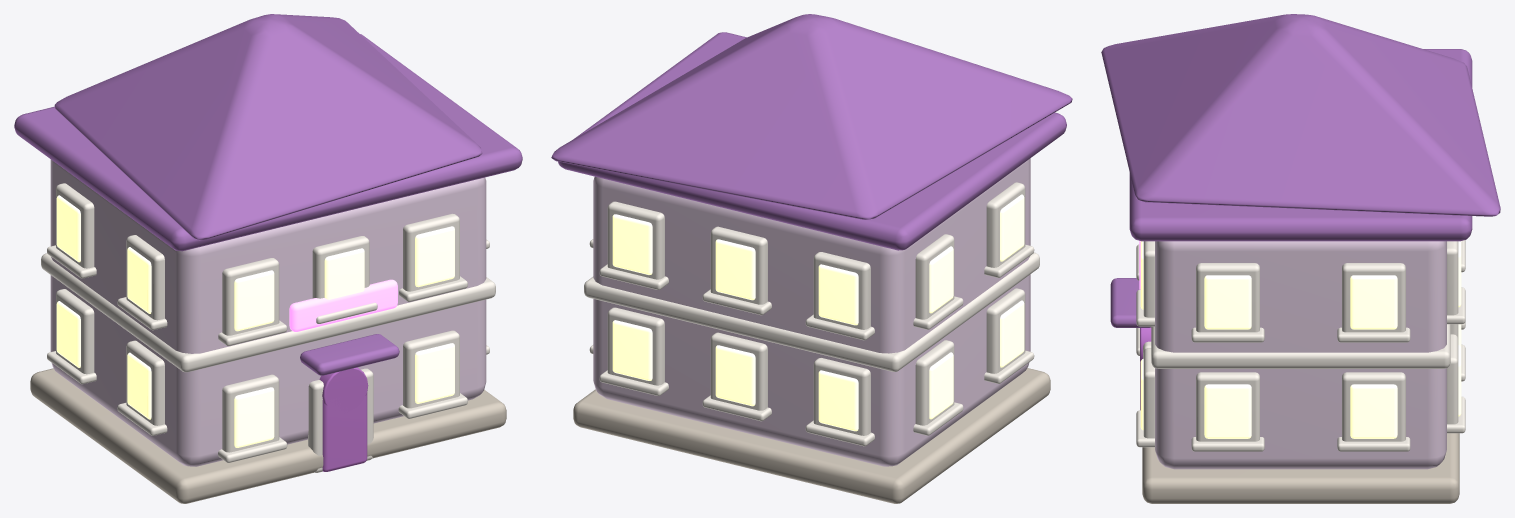
3 views of the same model, side by side, from view 1: azimuth 30°, elevation 25°; view 2: azimuth 150°, elevation 25°; view 3: azimuth 270°, elevation 25° (orthographic). The views are drawn at different scales.
Visible parts, largest first — view 1: Cube; view 2: Cube; view 3: Cube.
Part boxes in pixels (x1=…): Cube: x1=14, y1=14, x2=522, y2=503; Cube: x1=551, y1=14, x2=1072, y2=503; Cube: x1=1101, y1=14, x2=1500, y2=503.
Size of the model in its own units: 0.66 by 0.7055 by 0.6298.
